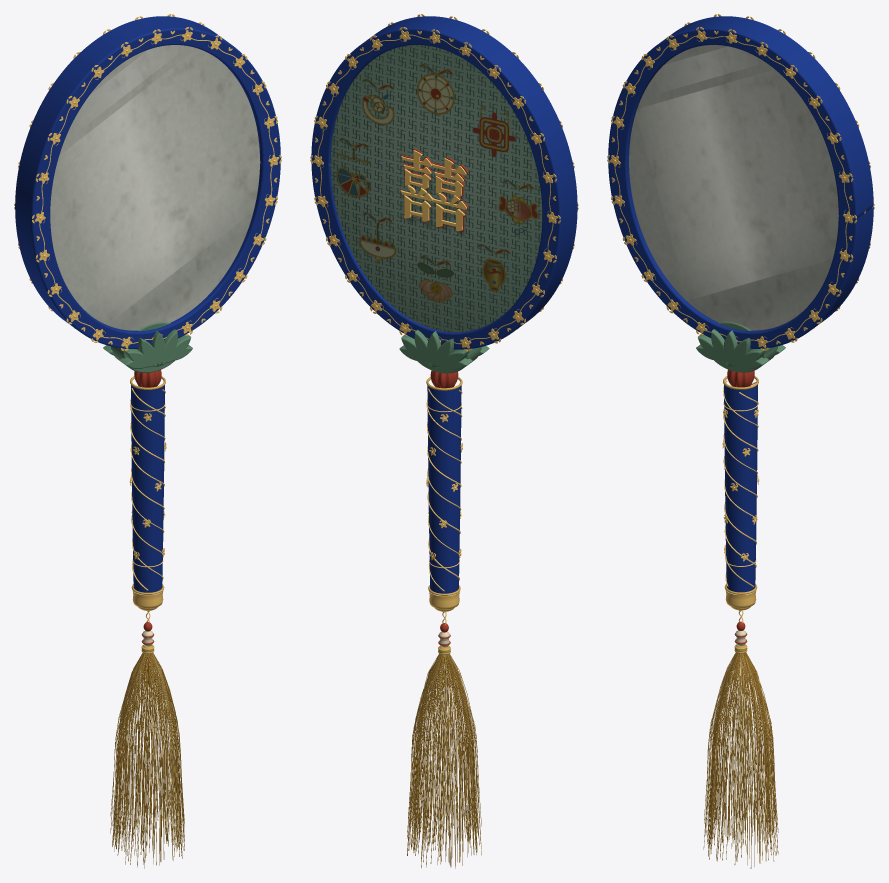
The model's file is gugong-mirror.glb.
The picture shows the model from 3 angles, left to right: view 1: azimuth 30°, elevation 25°; view 2: azimuth 150°, elevation 25°; view 3: azimuth 330°, elevation 25°; orthographic projection.
Parts seen in each view (by area): view 1: Aged mirror glass, Cobalt enamel body and handle, Soft window reflection, Yellow silk tassel, Gilded floral scrollwork, Dyed-ivory scroll connector, Coral beads; view 2: Reverse enamel plaque, Cobalt enamel body and handle, Yellow silk tassel, Gilded floral scrollwork, Dyed-ivory scroll connector, Coral-red enamel 囍 bed, Coral beads; view 3: Aged mirror glass, Cobalt enamel body and handle, Soft window reflection, Yellow silk tassel, Gilded floral scrollwork, Dyed-ivory scroll connector, Coral beads.
Boxes of the visible parts, <box> form: Aged mirror glass: <box>50,45,260,330</box>; Cobalt enamel body and handle: <box>15,16,280,592</box>; Soft window reflection: <box>79,60,249,329</box>; Yellow silk tassel: <box>110,645,184,868</box>; Gilded floral scrollwork: <box>14,14,281,623</box>; Dyed-ivory scroll connector: <box>103,322,192,372</box>; Coral beads: <box>134,370,161,644</box>; Reverse enamel plaque: <box>330,45,542,332</box>; Cobalt enamel body and handle: <box>311,16,577,593</box>; Yellow silk tassel: <box>407,646,481,868</box>; Gilded floral scrollwork: <box>310,14,578,624</box>; Dyed-ivory scroll connector: <box>399,330,489,373</box>; Coral-red enamel 囍 bed: <box>400,148,468,232</box>; Coral beads: <box>430,370,458,645</box>; Aged mirror glass: <box>629,45,838,330</box>; Cobalt enamel body and handle: <box>608,16,873,592</box>; Soft window reflection: <box>658,51,827,314</box>; Yellow silk tassel: <box>703,644,778,868</box>; Gilded floral scrollwork: <box>607,14,874,623</box>; Dyed-ivory scroll connector: <box>696,321,785,372</box>; Coral beads: <box>727,369,754,644</box>.
Bounding box in the file's own units: 12.52 × 39.86 × 3.23.
Materials: 13 (3 with a texture image).
